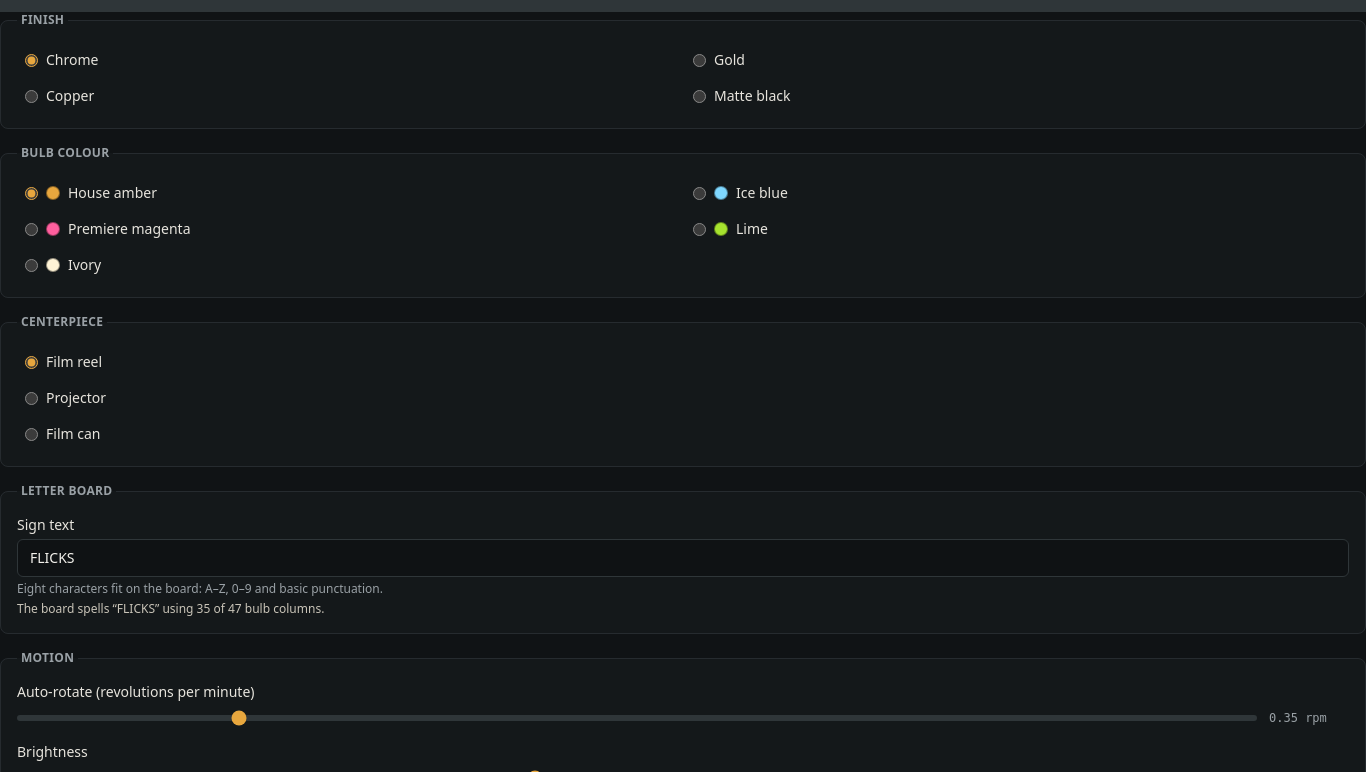
Test: ConfigPanel › says when the board could not fit everything
Replace the text in the field labelled "Sign text" with "double bill" at (683, 558), box [17, 539, 1349, 577]
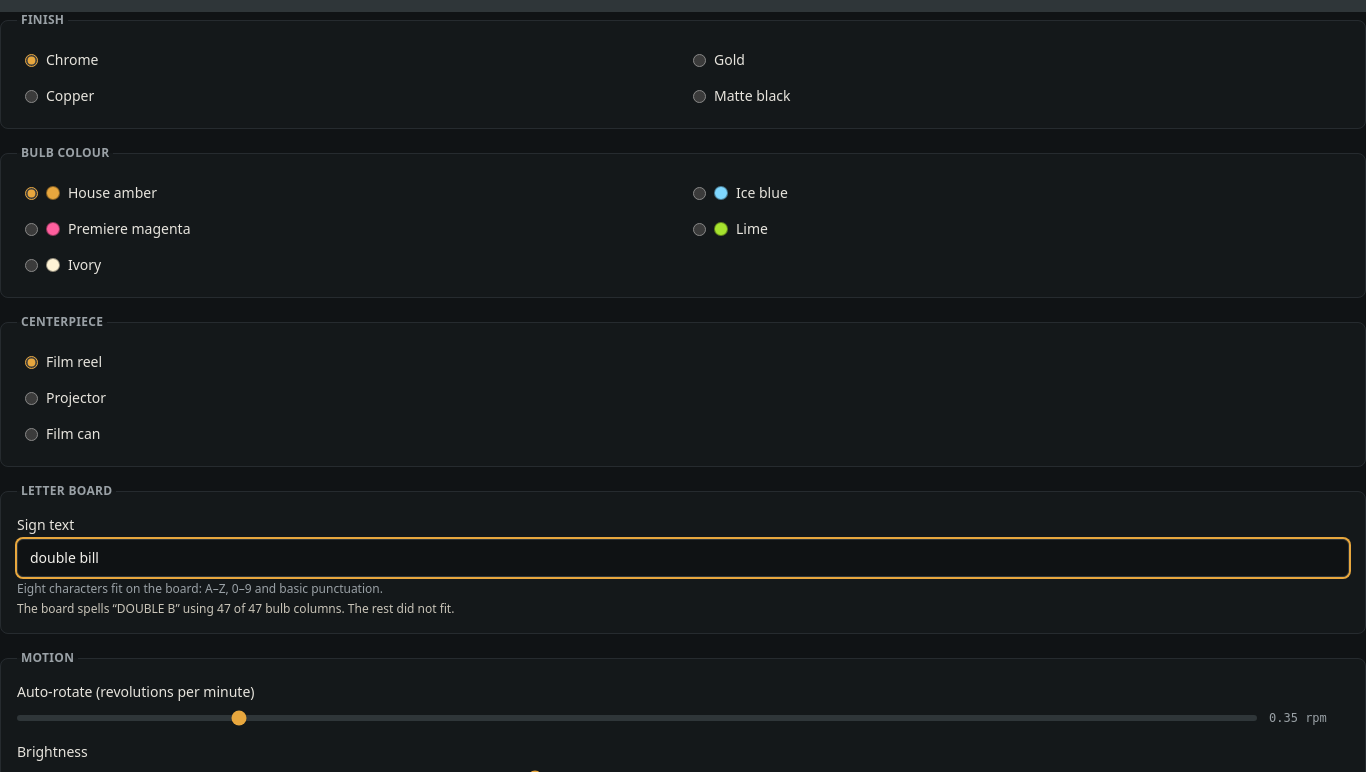
Result: the message shows "did not fit" at [345, 600, 454, 617]
